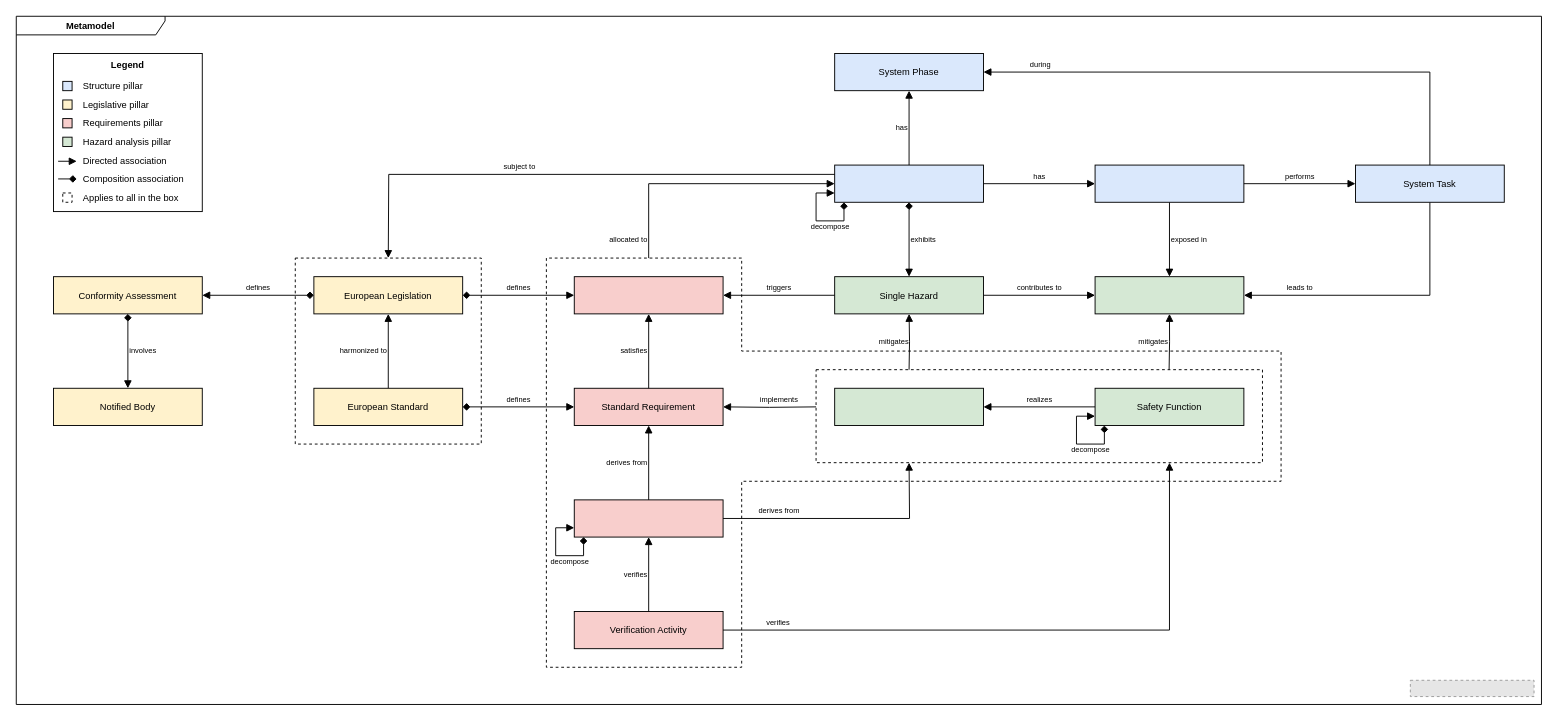
The diagram is 1558 pixels wide and 721 high, and some of its shapes have lost their labels. Grey dashed boxes stand in for pictures. The box of each missing label's shape, as (x1, y1, x2, y2) in pixels:
Accident Scenario: (1094, 276, 1244, 314)
Essential Requirement: (573, 276, 723, 314)
Risk Reduction Measure: (834, 387, 983, 425)
System Actor: (1094, 164, 1244, 202)
System Element: (834, 164, 983, 202)
System Requirement: (573, 499, 723, 537)
